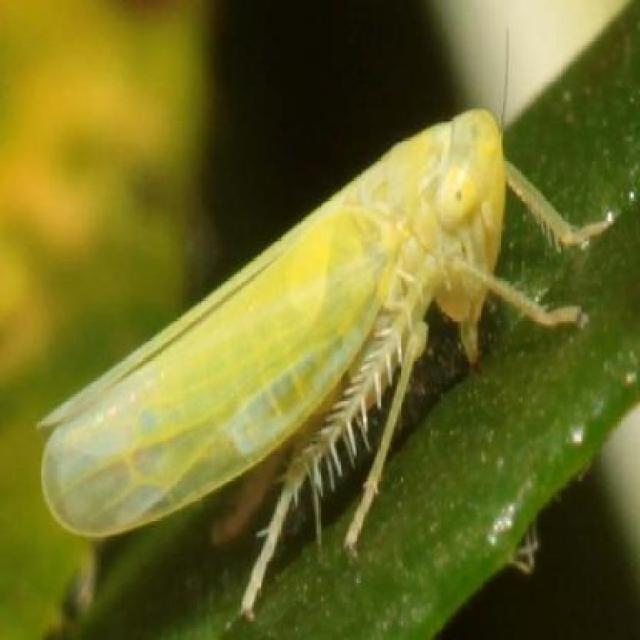green-leafhopper: (31, 103, 613, 617)
